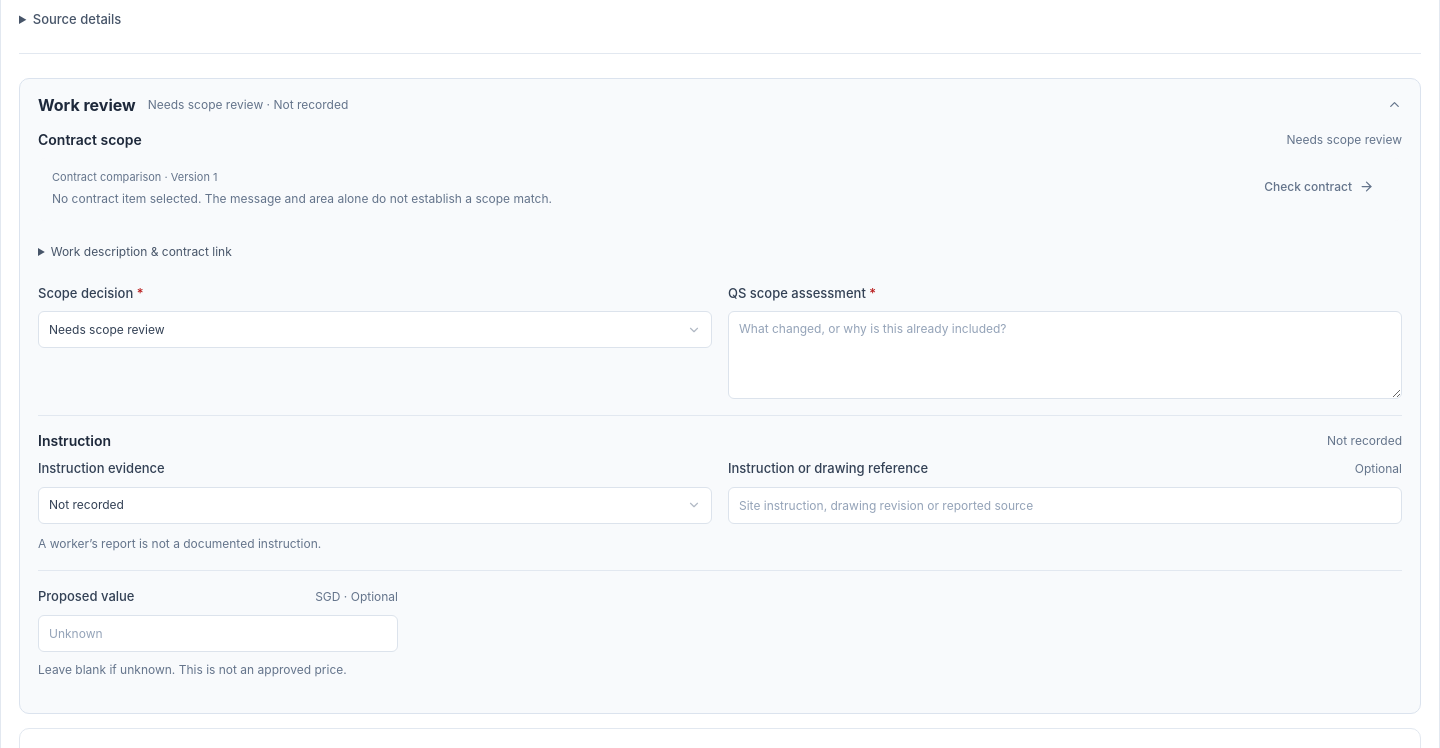
Test case: compact VO evidence linking › blocks linking while a QS review has unsaved edits instead of dropping those edits
This screenshot has width=1440, height=748.
(page scrolled)
Type "An unfinished scope assessment" into the text box labelled "QS scope assessment *".
click(1065, 355); type("An unfinished scope assessment")  # box x1=728 y1=311 x2=1402 y2=399
(page scrolled)
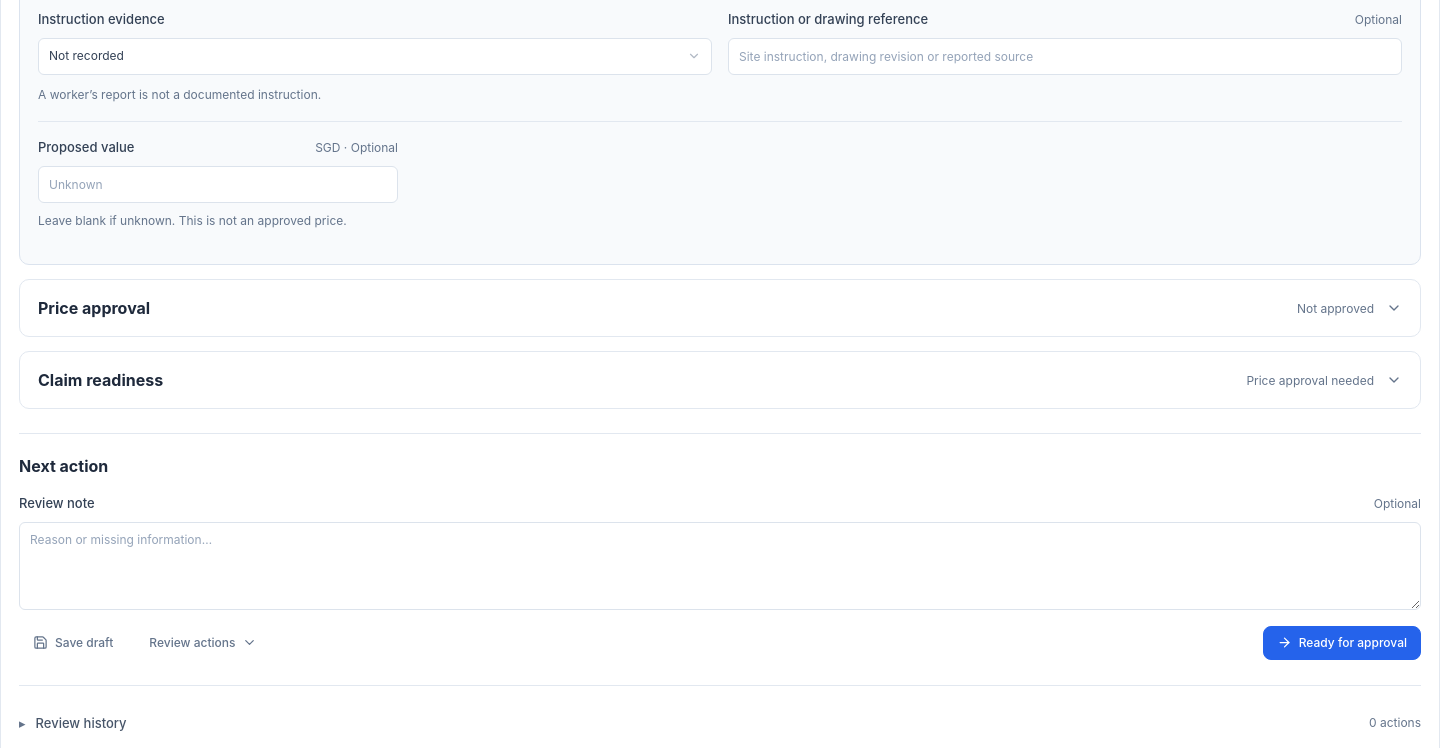
Click the button "Review actions".
click(203, 643)  # box x1=135 y1=626 x2=271 y2=660
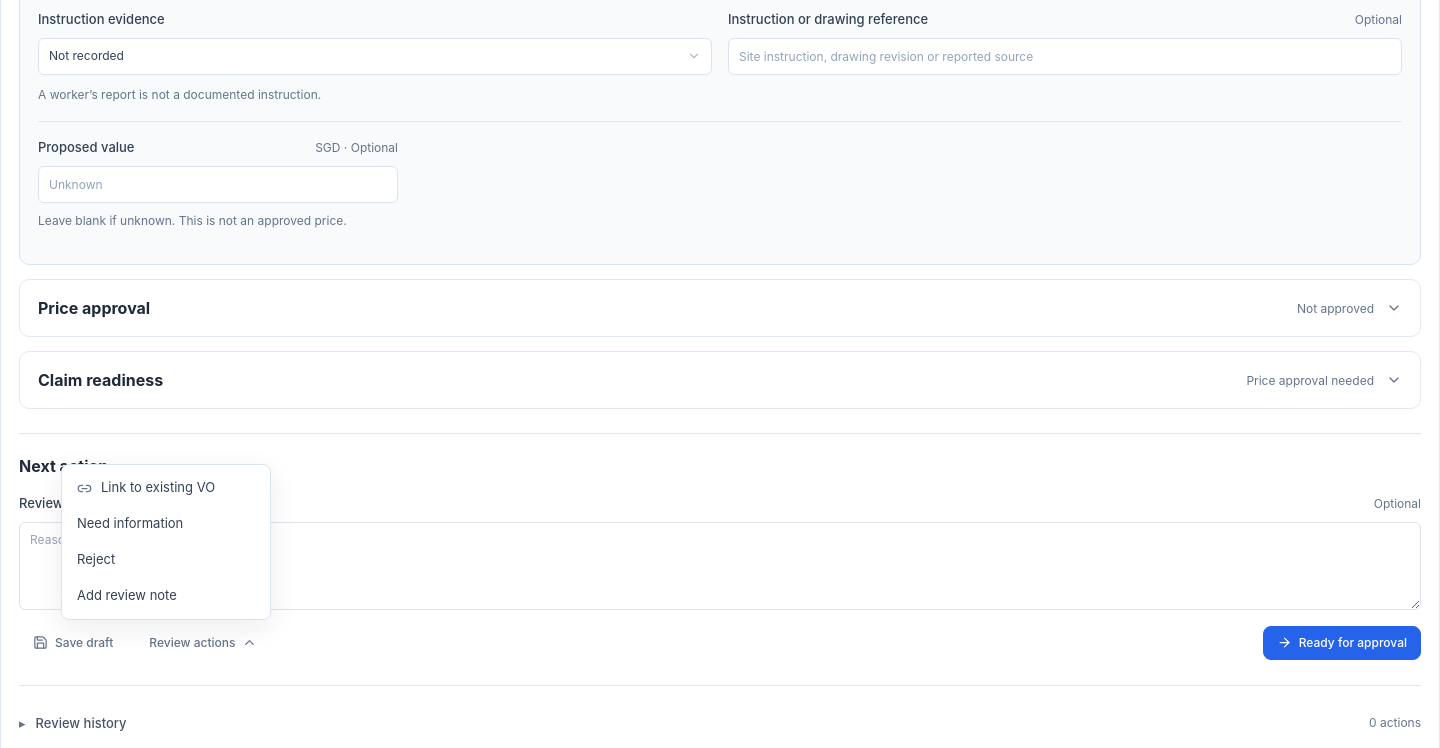
Click the menu item "Link to existing VO".
click(146, 487)  # box x1=77 y1=479 x2=215 y2=496
(page scrolled)
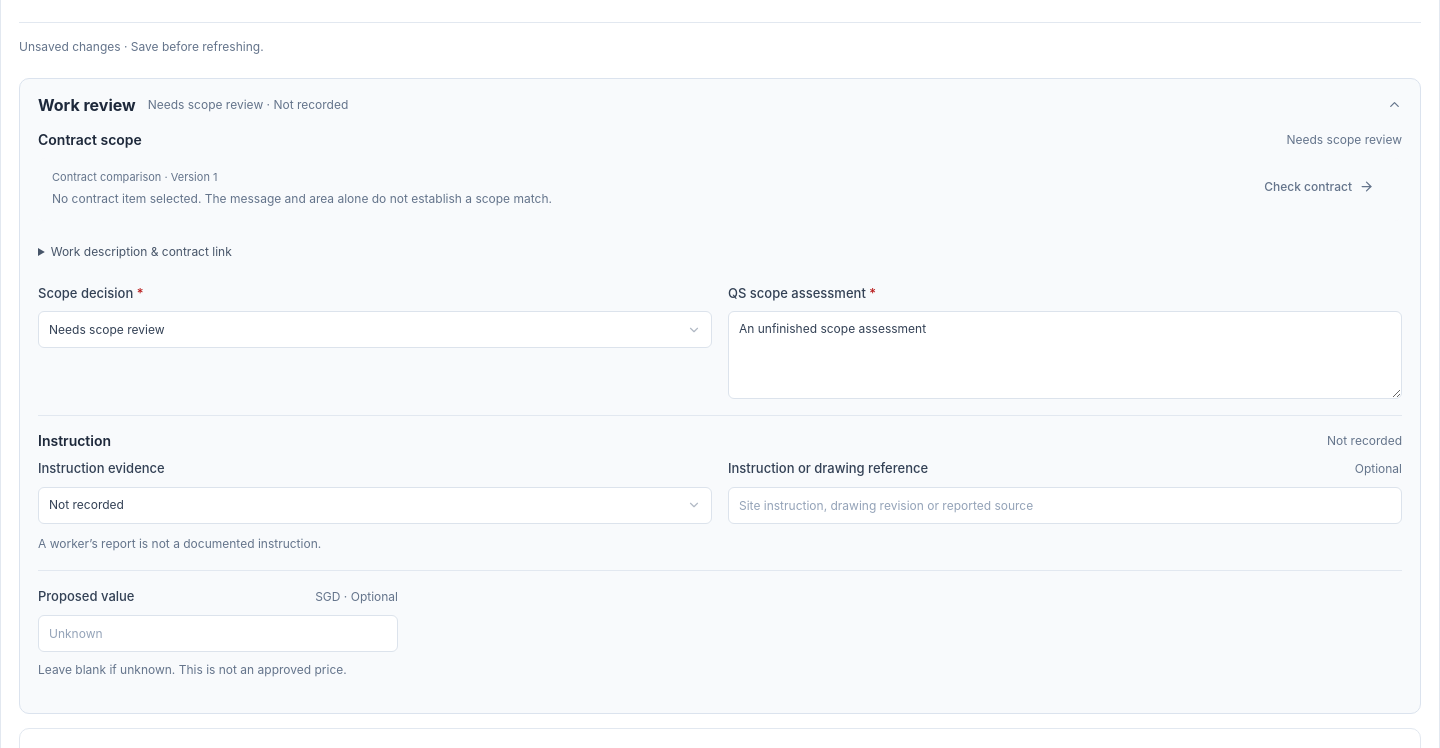
Expected: the menu item "Link to existing VO" is gone
